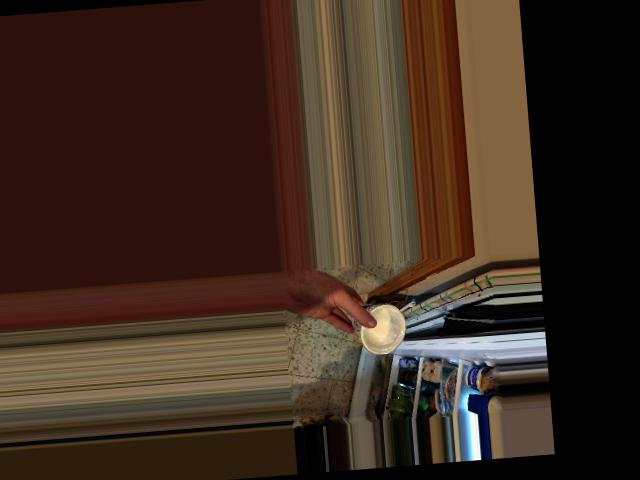cotage: (348, 301, 410, 351)
